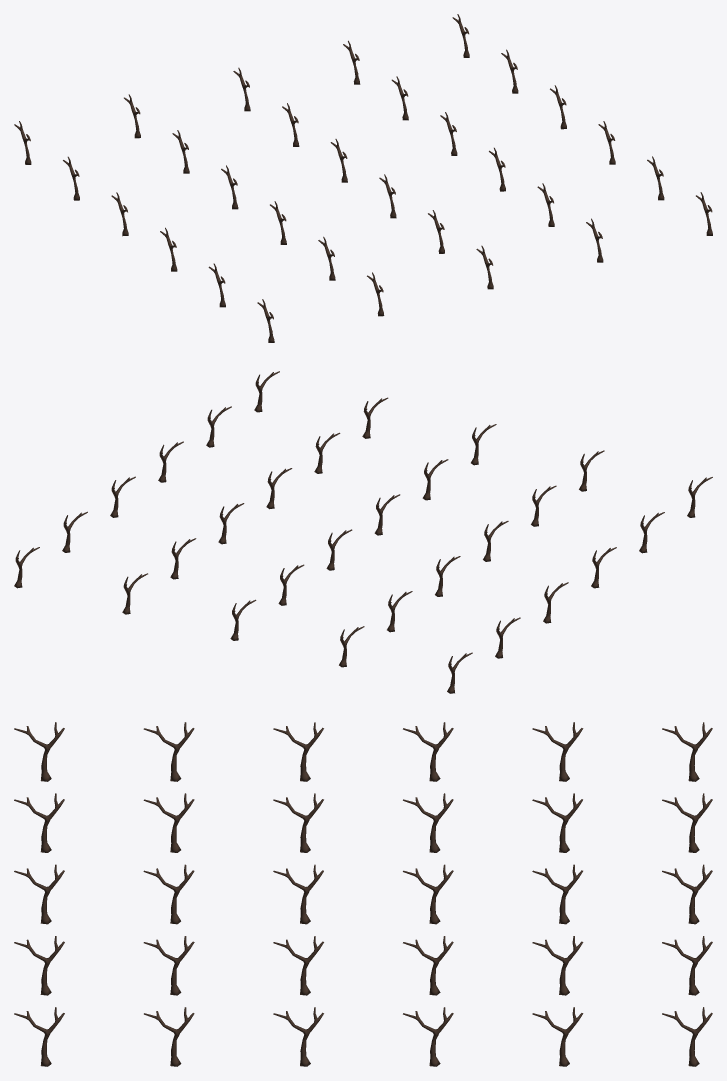
Rendered from Y1WinterPruned.fbx.
3 renders of one model, top to bottom at view 1: azimuth 30°, elevation 25°; view 2: azimuth 150°, elevation 25°; view 3: azimuth 270°, elevation 25°, orthographic. The views are drawn at different scales.
Visible parts, largest first — view 1: Y2WinterPruned; view 2: Y2WinterPruned; view 3: Y2WinterPruned.
Boxes of the visible parts, bbox=[...] form: Y2WinterPruned: bbox=[14, 14, 712, 342]; Y2WinterPruned: bbox=[14, 371, 712, 693]; Y2WinterPruned: bbox=[14, 722, 712, 1066].
Bounding box in the file's own units: 300 × 26.05 × 301.
